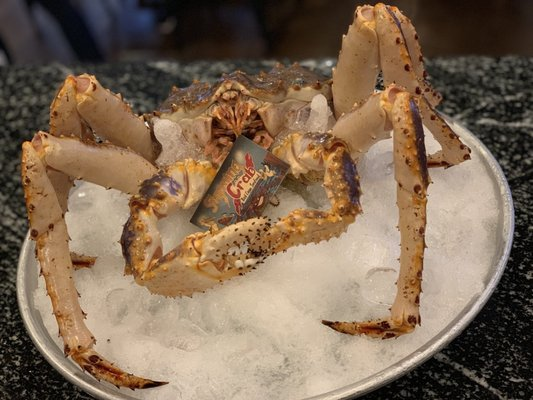sushi: (12, 1, 478, 352)
